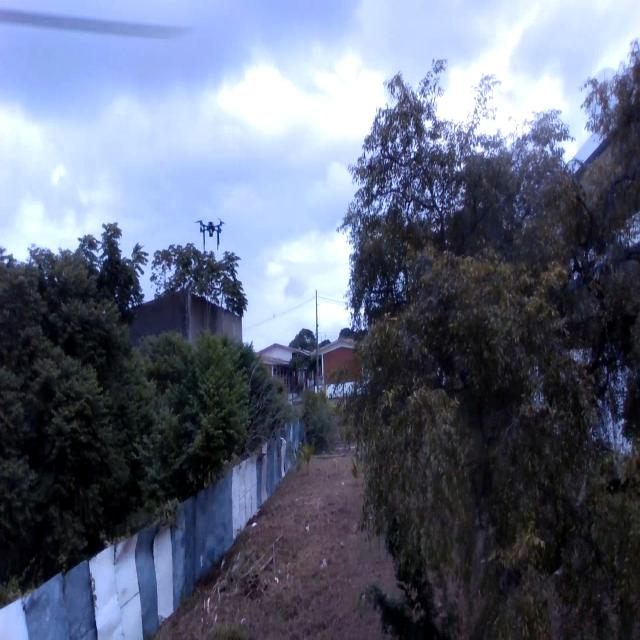-uav-: (192, 212, 230, 250)
